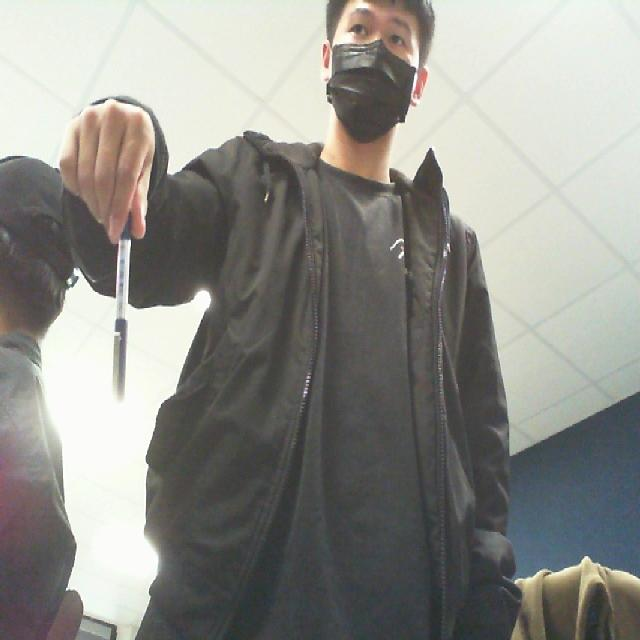Pen: (108, 200, 141, 436)
